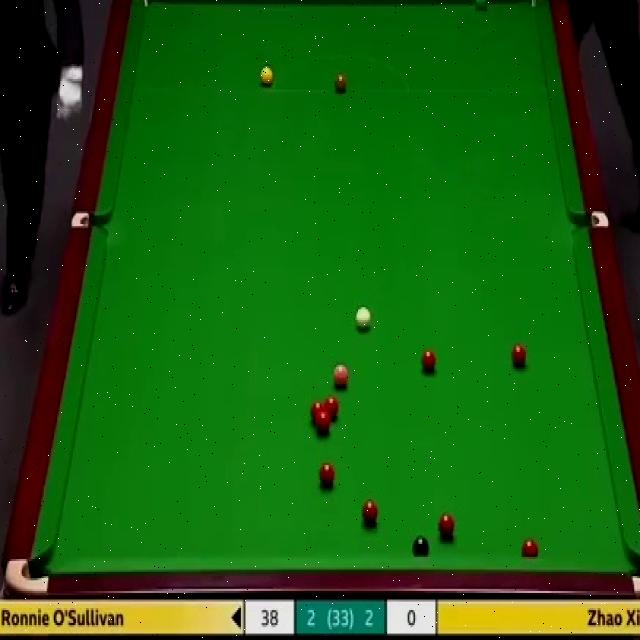black-ball: (412, 534, 429, 556)
brown-ball: (334, 71, 348, 95)
green-ball: (473, 0, 488, 9)
pink-ball: (332, 362, 349, 387)
red-ball: (361, 498, 379, 528), (438, 512, 456, 540), (320, 462, 336, 488), (420, 348, 437, 372), (511, 343, 527, 368), (316, 411, 331, 435), (523, 538, 539, 558), (326, 396, 338, 419), (312, 402, 324, 416)
white-ball: (354, 305, 372, 331)
yellow-ball: (259, 66, 273, 86)
